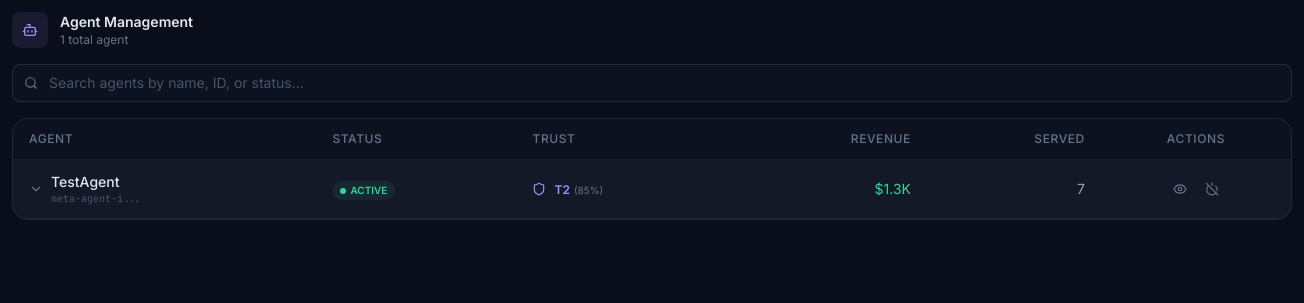
Test: AgentManagement › shows agent metadata (info used, data served) when expanded
Click the 1st button.
click(36, 189)  # box [29,182,43,196]
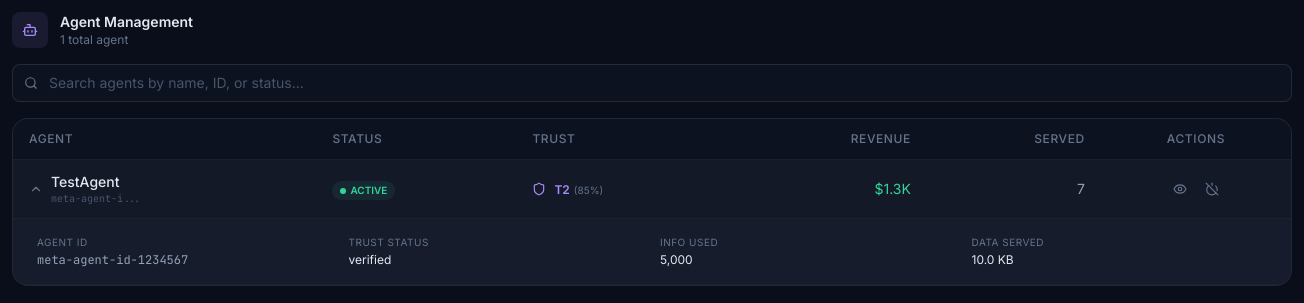
Now the text "Info Used" is shown, box [660,236,718,248]
Now the text "5,000" is shown, box [660,252,693,267]
Now the text "Data Served" is shown, box [972,236,1044,248]
